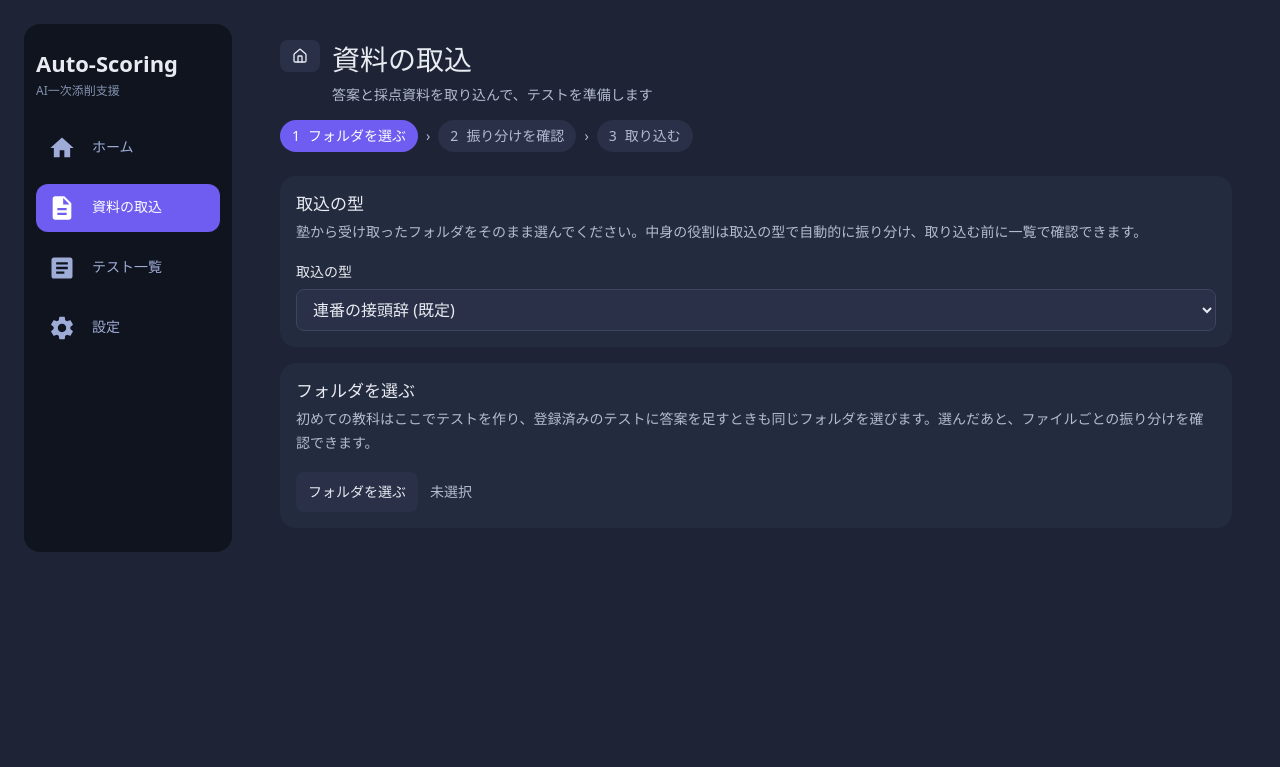
Issue #384 (3): the intake selection survives leaving the screen › やり直す drops the restored selection and stays empty afterwards
Expected: the dropdown with test id "intake-template-picker" is shown, [296,289,1216,331]
Step 1. Click the button with test id "intake-choose-folder" → (357, 492), box [296,472,418,512]
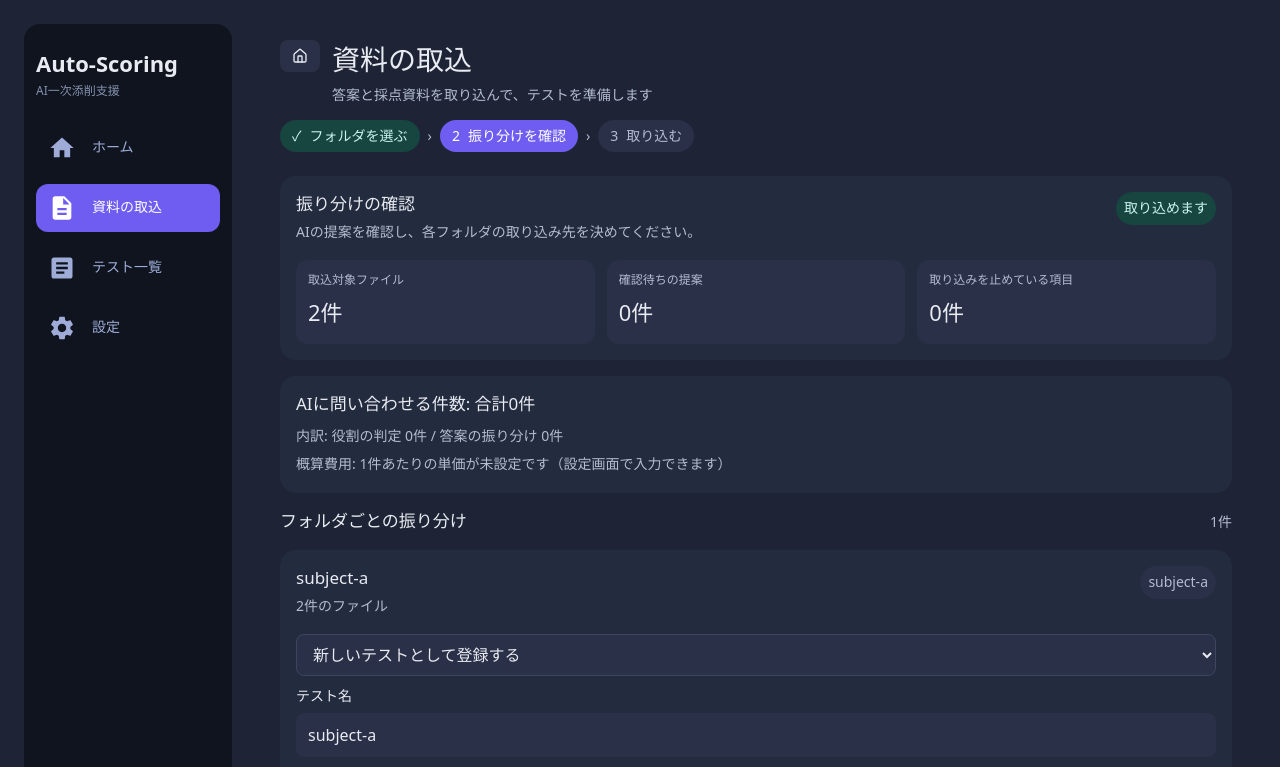
Expected: the element with test id "intake-review-summary" is shown, [280,176,1232,360]
Step 2. Click the button with test id "sidebar-nav-tests" → (128, 268), box [36,244,220,292]
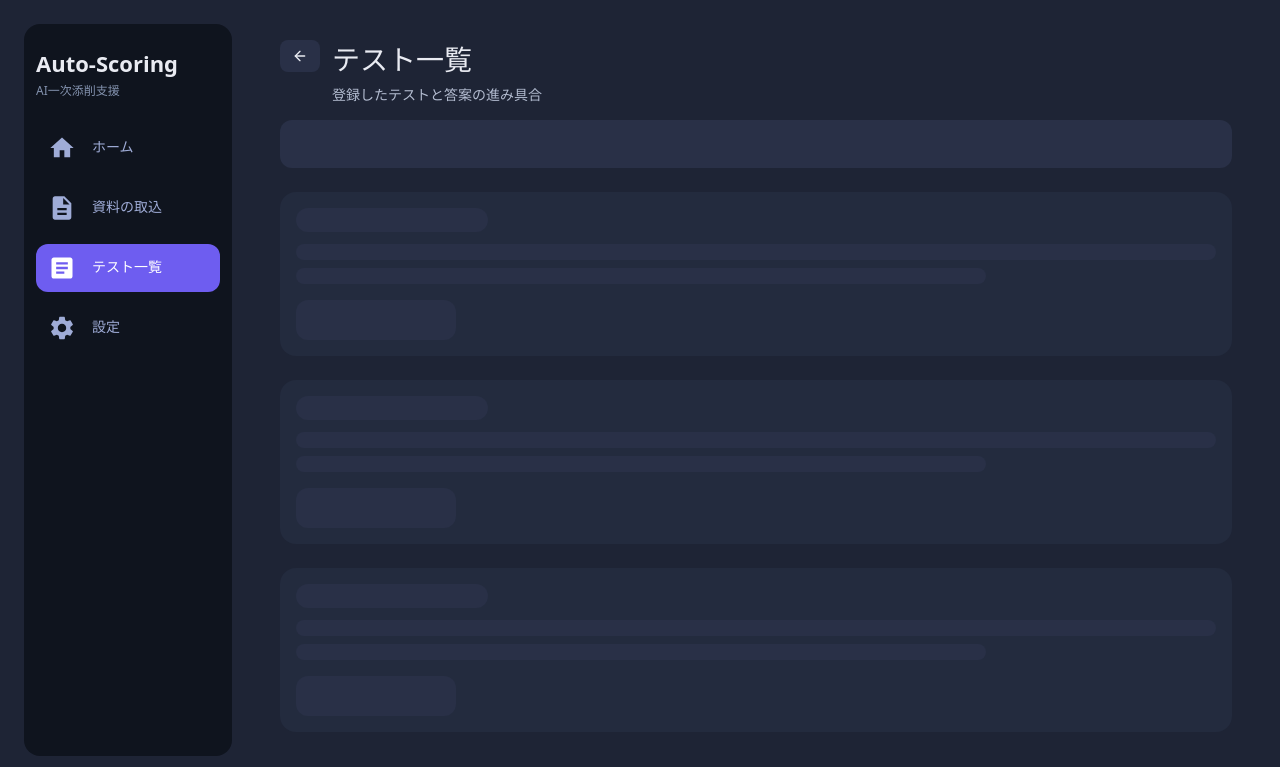
Expected: the heading "テスト一覧" is shown, [332,40,472,78]
Step 3. Click the button with test id "sidebar-nav-intake" → (128, 208), box [36,184,220,232]
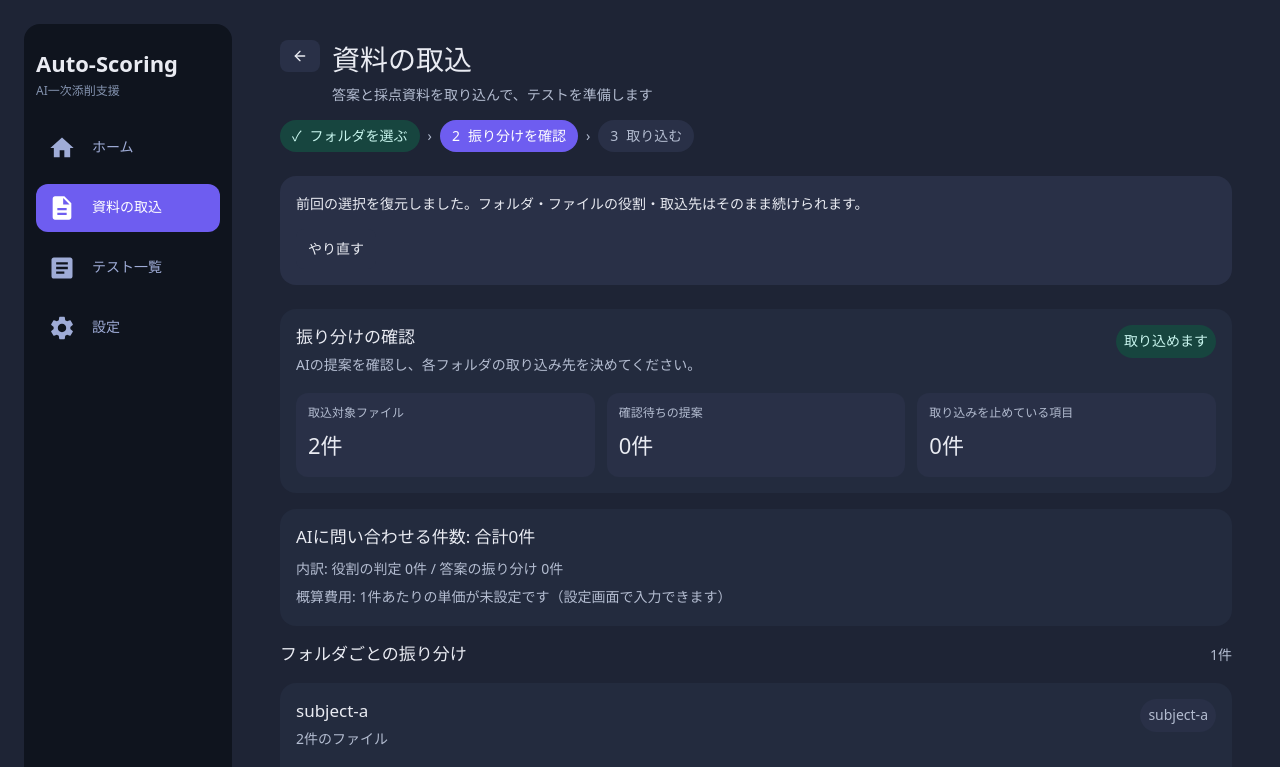
Expected: the element with test id "intake-restore-notice" is shown, [280,176,1232,285]
Step 4. Click the button with test id "intake-restore-discard" → (336, 249), box [296,229,376,269]
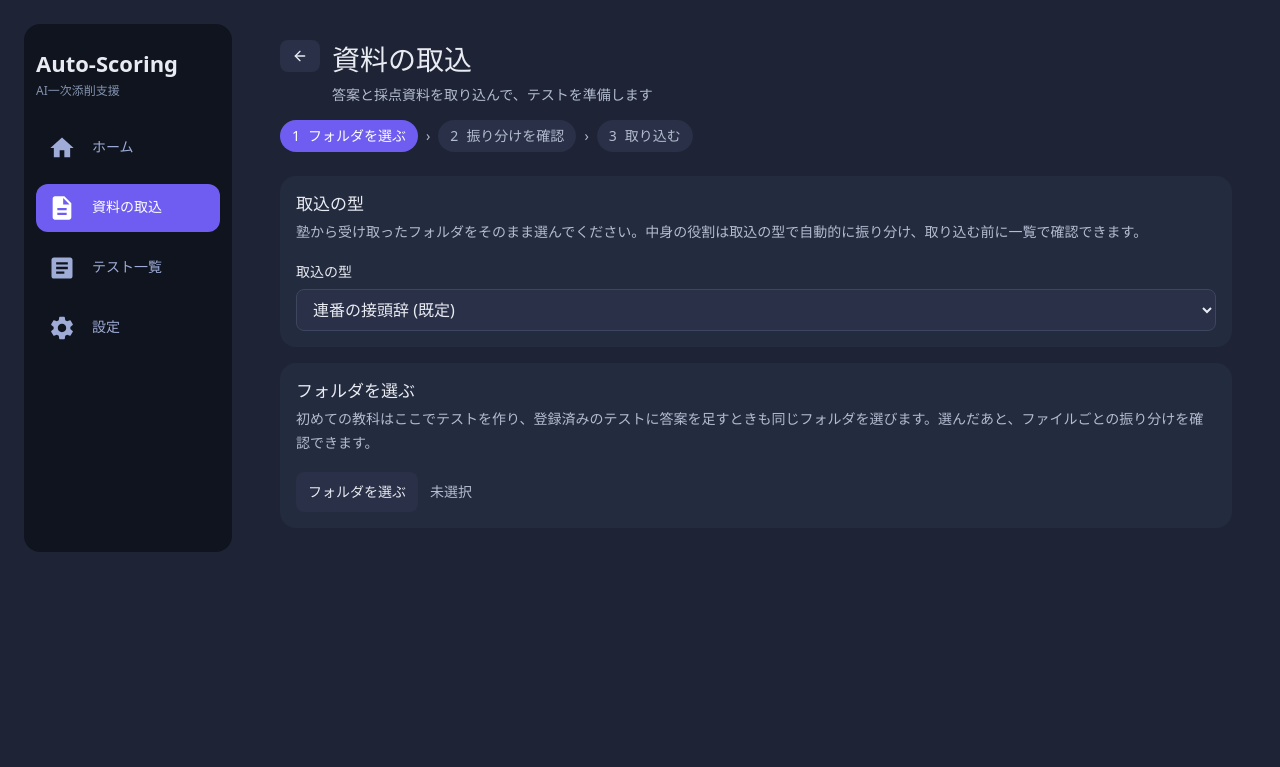
Expected: the button with test id "intake-choose-folder" is shown, [296,472,418,512]
Expected: the element with test id "intake-review-summary" is gone
Expected: the element with test id "intake-restore-notice" is gone
Step 5. Click the button with test id "sidebar-nav-tests" → (128, 268), box [36,244,220,292]
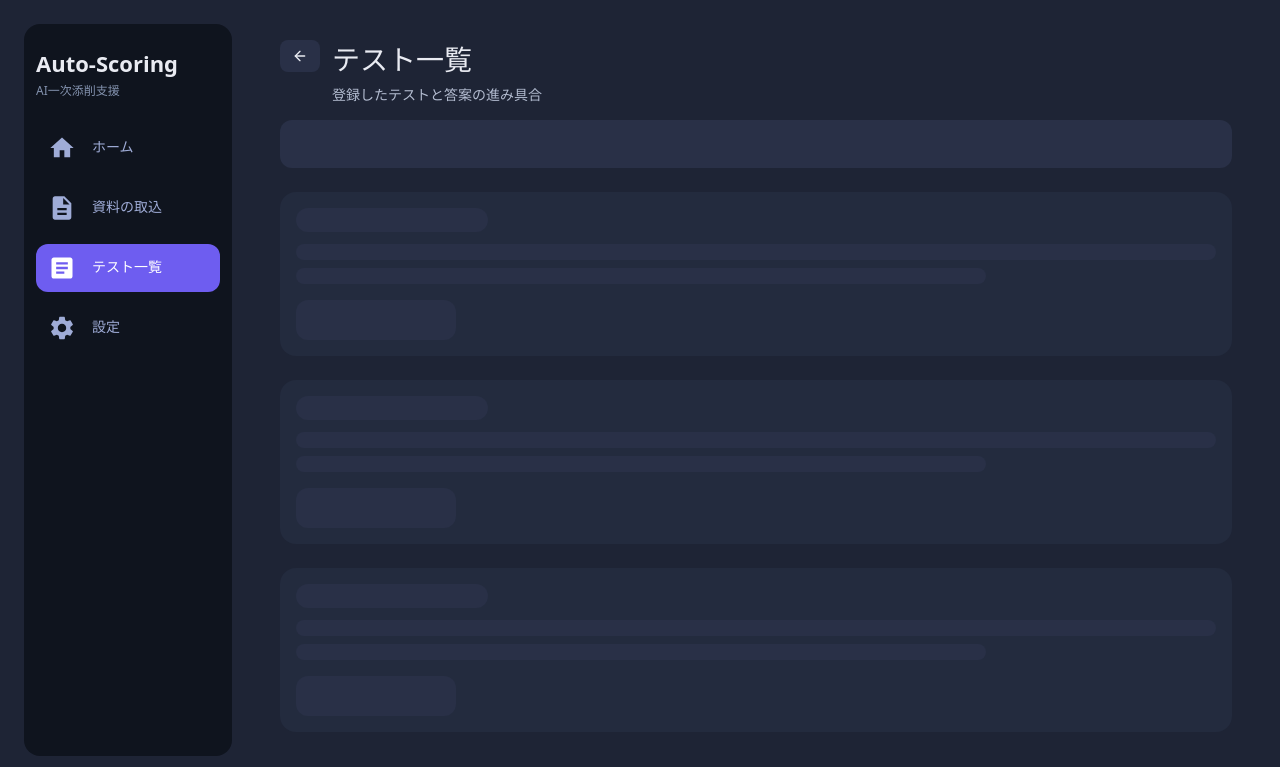
Expected: the heading "テスト一覧" is shown, [332,40,472,78]
Step 6. Click the button with test id "sidebar-nav-intake" → (128, 208), box [36,184,220,232]
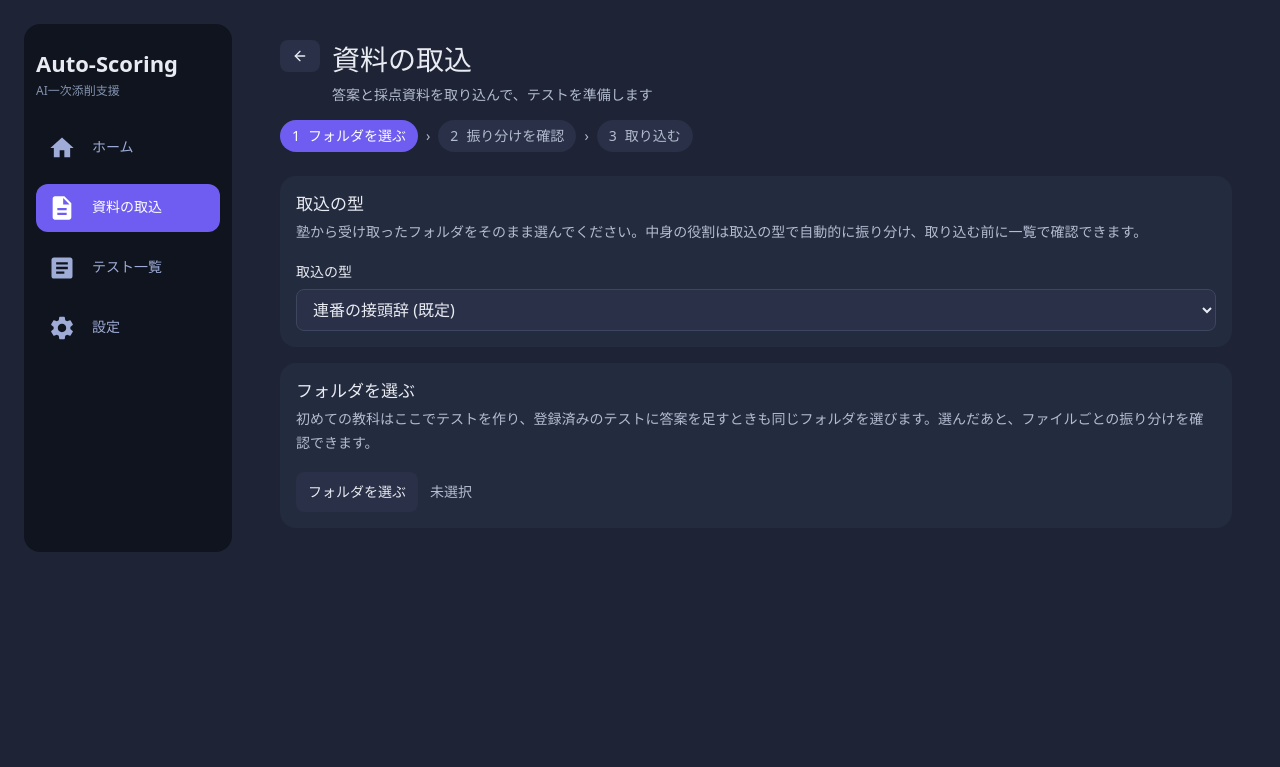
Expected: the button with test id "intake-choose-folder" is shown, [296,472,418,512]
